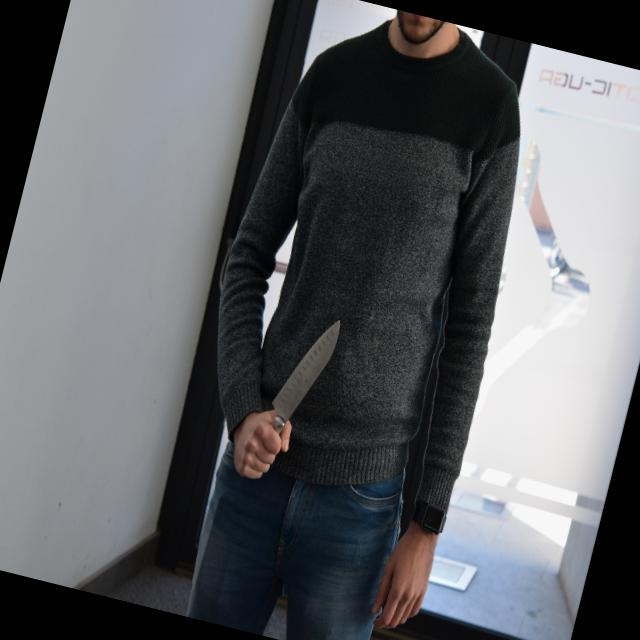knife: (260, 300, 347, 446)
